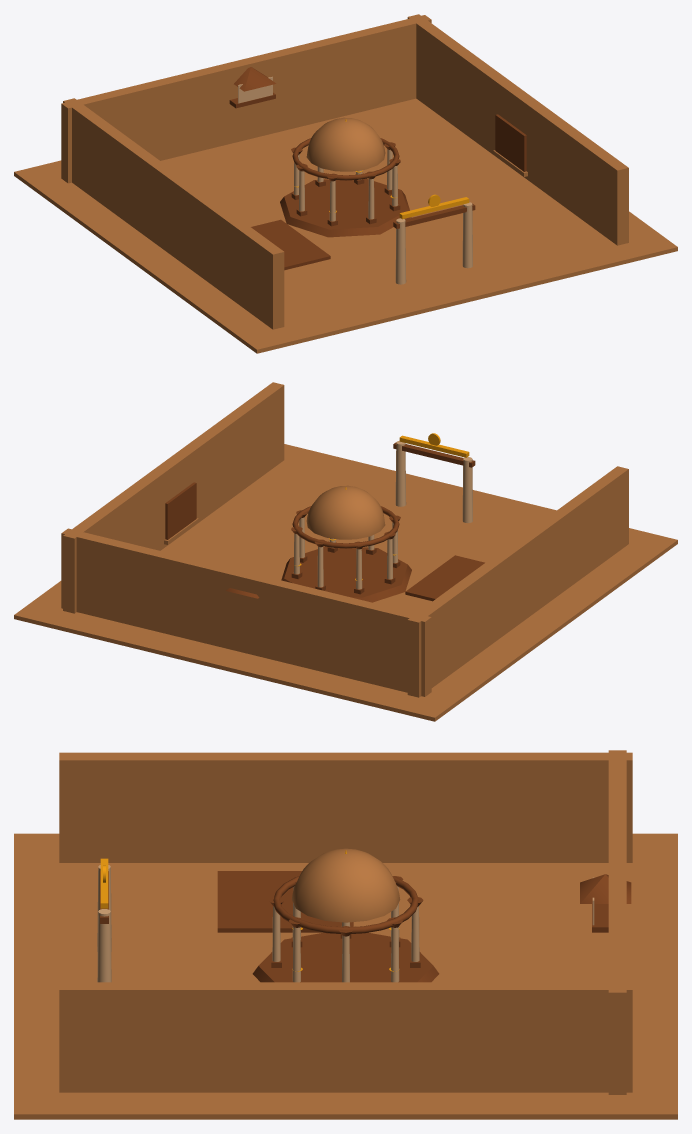
The picture shows the model from 3 angles, top to bottom: view 1: azimuth 30°, elevation 25°; view 2: azimuth 150°, elevation 25°; view 3: azimuth 270°, elevation 25°; orthographic projection. The views are drawn at different scales.
Parts seen in each view (by area): view 1: CourtyardPlinth, NorthWall, WestWall, EastWall, CentralMandapa, ToranaGateway, BaoriStepwell, EastJaliScreen, OrnateJharokha; view 2: CourtyardPlinth, NorthWall, WestWall, EastWall, CentralMandapa, ToranaGateway, BaoriStepwell, EastJaliScreen; view 3: CourtyardPlinth, EastWall, WestWall, CentralMandapa, NorthWall, BaoriStepwell, ToranaGateway, OrnateJharokha.
Boxes of the visible parts, <box> form: CourtyardPlinth: <box>14,98,677,353</box>; NorthWall: <box>61,15,431,183</box>; WestWall: <box>63,98,284,329</box>; EastWall: <box>407,14,628,245</box>; CentralMandapa: <box>280,117,411,237</box>; ToranaGateway: <box>393,194,475,284</box>; BaoriStepwell: <box>251,219,330,270</box>; EastJaliScreen: <box>493,114,527,176</box>; OrnateJharokha: <box>229,67,276,108</box>; CourtyardPlinth: <box>14,444,677,721</box>; NorthWall: <box>61,528,431,696</box>; WestWall: <box>407,466,628,697</box>; EastWall: <box>63,382,284,613</box>; CentralMandapa: <box>281,485,411,602</box>; ToranaGateway: <box>393,433,475,523</box>; BaoriStepwell: <box>405,555,484,601</box>; EastJaliScreen: <box>164,482,198,544</box>; CourtyardPlinth: <box>14,833,677,1119</box>; EastWall: <box>59,982,632,1092</box>; WestWall: <box>59,752,632,862</box>; CentralMandapa: <box>252,848,439,982</box>; NorthWall: <box>608,750,626,1094</box>; BaoriStepwell: <box>217,871,353,932</box>; ToranaGateway: <box>97,858,111,982</box>; OrnateJharokha: <box>580,874,631,932</box>.
Bounding box in the file's own units: 44 × 10.1 × 44.
